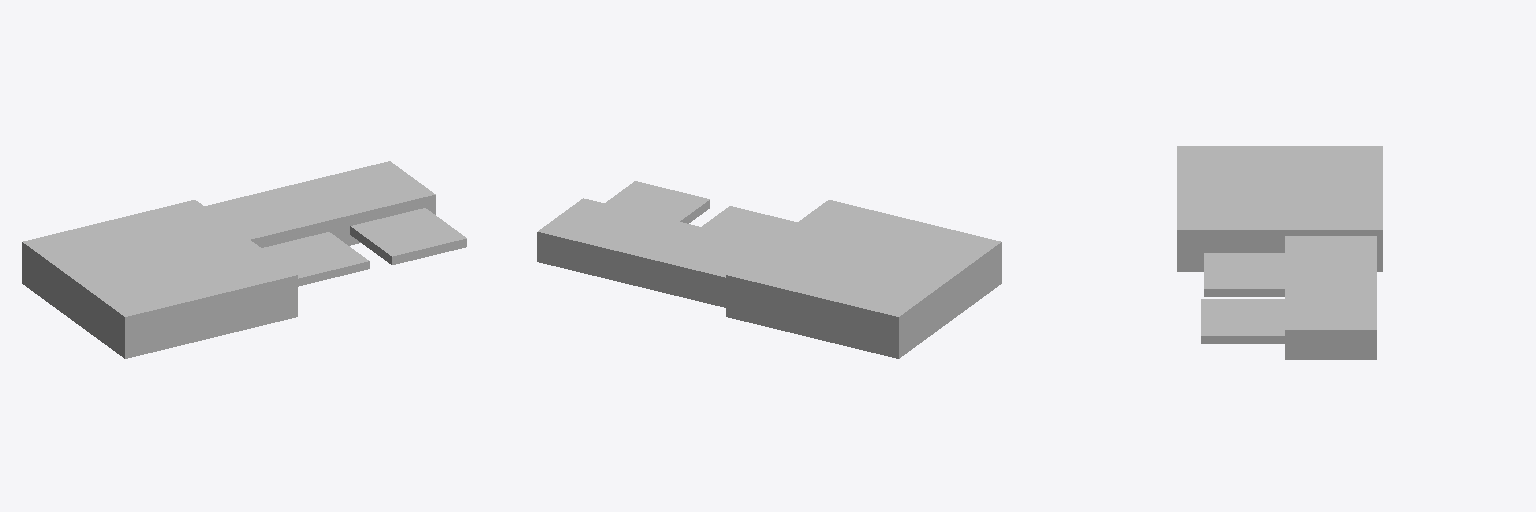
The model's file is key.obj.
The picture shows the model from 3 angles: view 1: azimuth 30°, elevation 25°; view 2: azimuth 150°, elevation 25°; view 3: azimuth 270°, elevation 25°; orthographic projection.
Parts seen in each view (by area): view 1: Cube; view 2: Cube; view 3: Cube.
Boxes of the visible parts, x1=… form: Cube: x1=22, y1=161, x2=466, y2=358; Cube: x1=537, y1=181, x2=1001, y2=358; Cube: x1=1177, y1=146, x2=1382, y2=359.
Bounding box in the file's own units: 0.6913 × 0.076 × 0.3383.